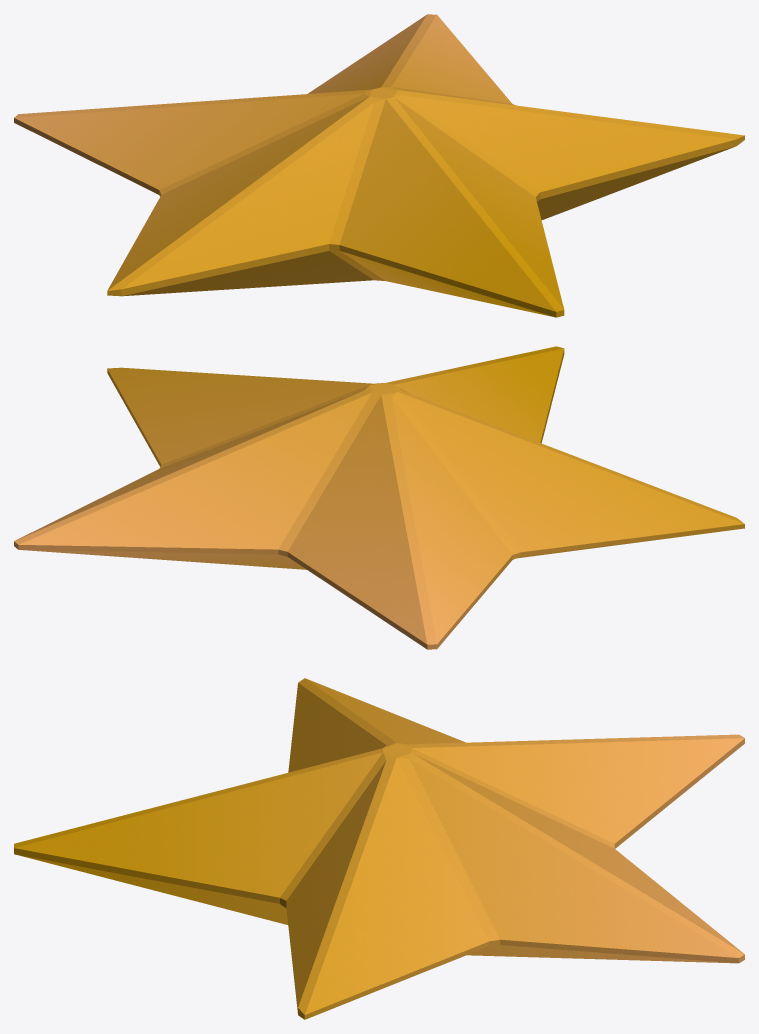
File: star.obj
3 renders of one model, top to bottom at view 1: azimuth 30°, elevation 25°; view 2: azimuth 150°, elevation 25°; view 3: azimuth 270°, elevation 25°, orthographic. The views are drawn at different scales.
Visible parts, largest first — view 1: Circle; view 2: Circle; view 3: Circle.
Boxes of the visible parts, x1,y1,x2,y2 form: Circle: (14,14,744,317); Circle: (14,346,744,649); Circle: (14,678,744,1019).
Bounding box in the file's own units: 2.02 × 0.5512 × 1.85.
Materials: 1 (1 with a texture image).
